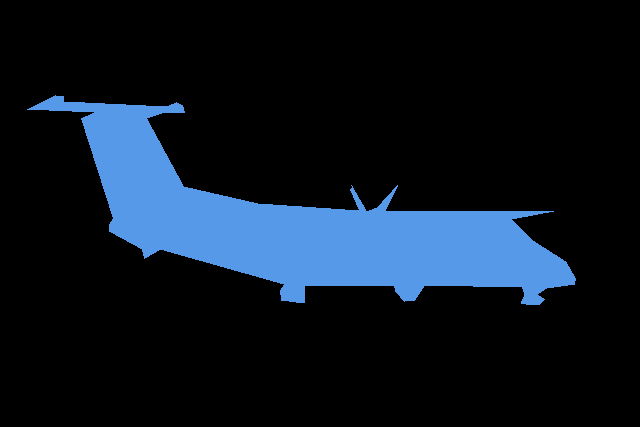Airplane: (27, 95, 575, 304)
